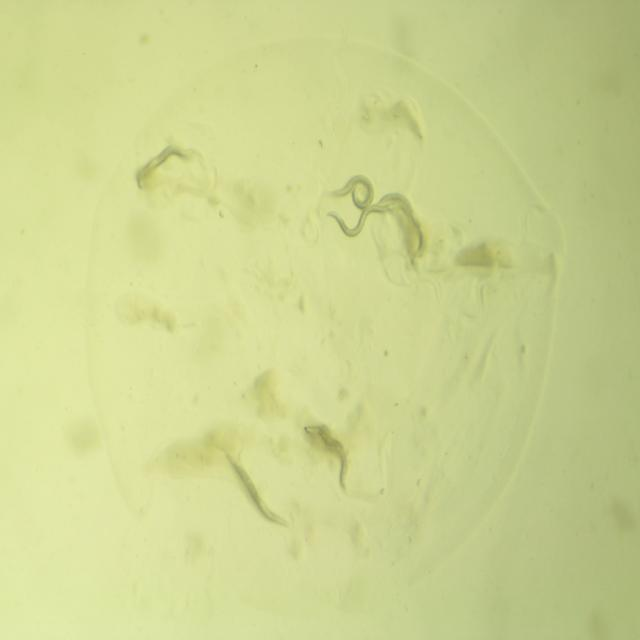worm: (219, 441, 295, 541), (373, 188, 432, 278), (298, 415, 361, 499), (129, 132, 204, 195), (318, 190, 404, 244), (319, 168, 379, 220)
